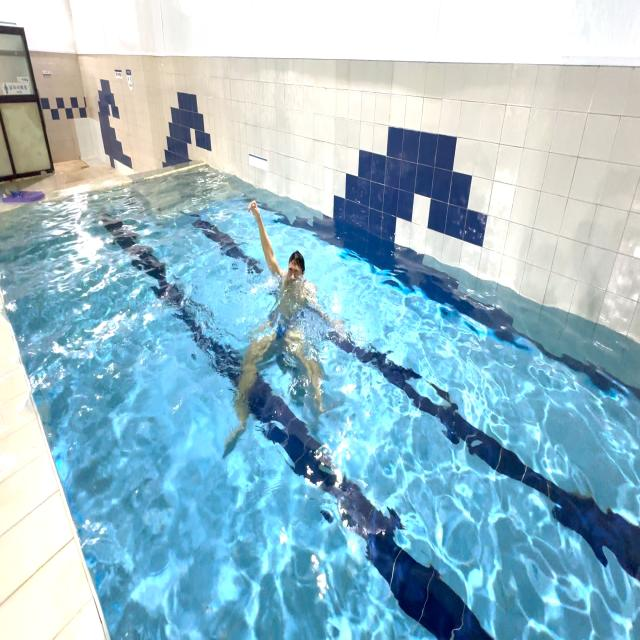Drowning: (221, 181, 344, 484)
